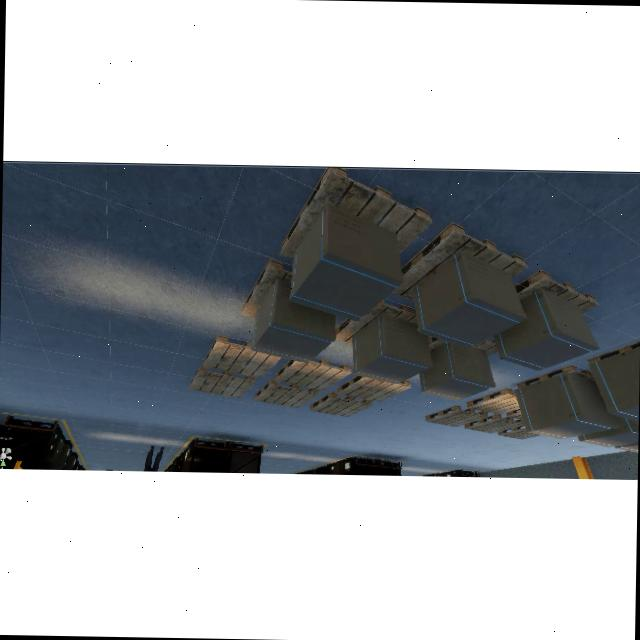wooden_pallet: (278, 166, 434, 258), (392, 221, 528, 301), (515, 269, 599, 315), (334, 300, 416, 345), (203, 335, 282, 380), (240, 258, 291, 317), (274, 357, 352, 389), (188, 364, 254, 400), (336, 373, 411, 402), (514, 364, 594, 390), (252, 379, 318, 408), (309, 391, 372, 417), (465, 387, 519, 414), (424, 405, 488, 426), (464, 414, 525, 434)
